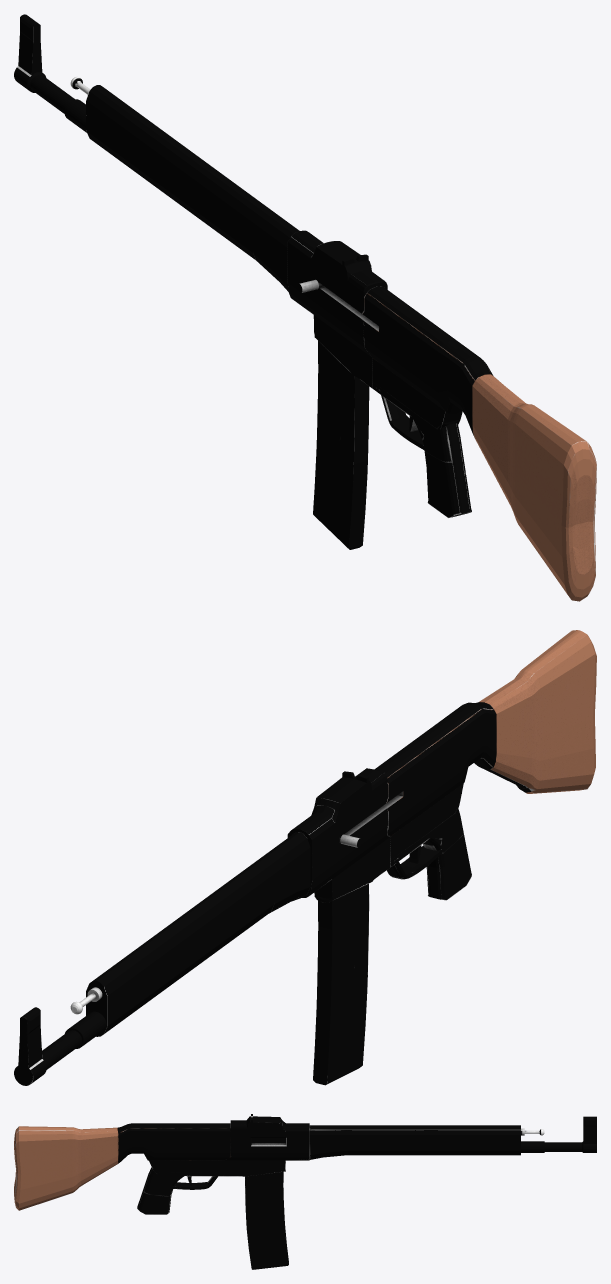
File: Completed STG-44.fbx
3 views of the same model, one above another, from view 1: azimuth 30°, elevation 25°; view 2: azimuth 150°, elevation 25°; view 3: azimuth 270°, elevation 25° (orthographic). The views are drawn at different scales.
Visible parts, largest first — view 1: Cube; view 2: Cube; view 3: Cube.
Boxes of the visible parts, x1,y1,x2,y2 form: Cube: (14,14,596,601); Cube: (14,630,596,1085); Cube: (14,1114,596,1269).
Size of the model in its own units: 157 by 964 by 3349.
